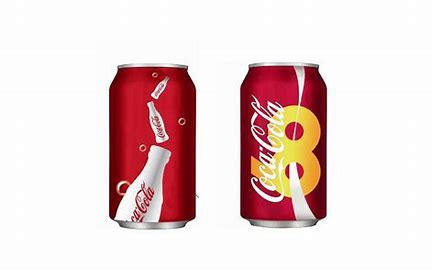Coke: (239, 59, 330, 231), (107, 60, 199, 229)
